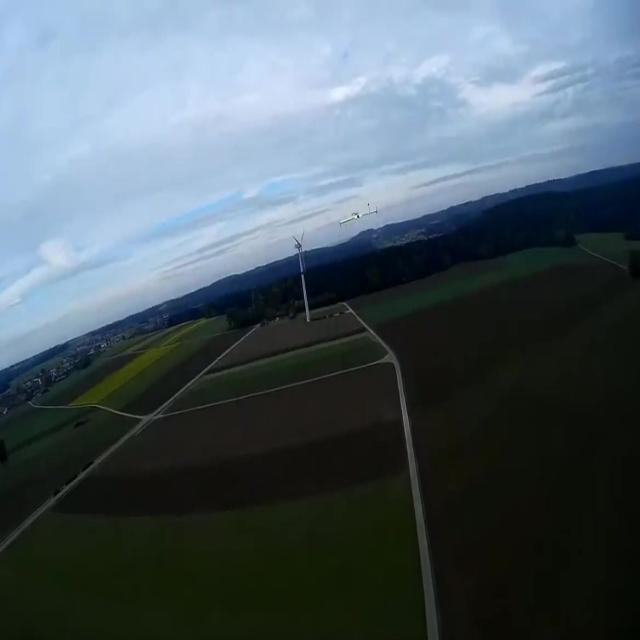iha: (339, 202, 377, 226)
